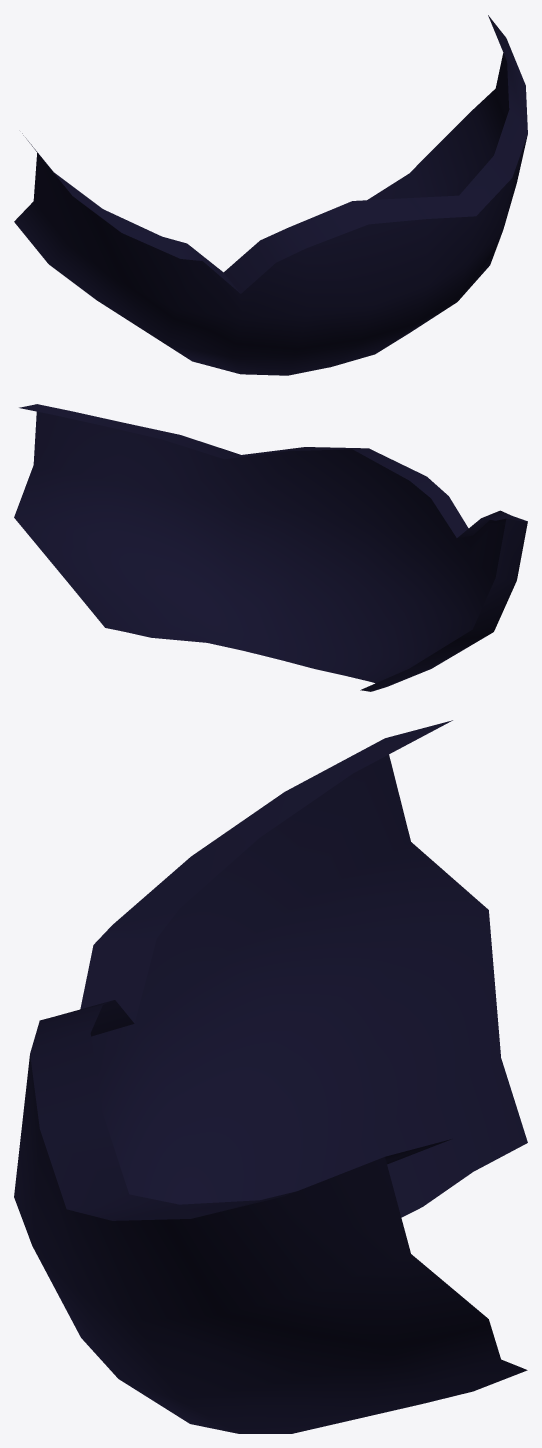
Rendered from character_mask.fbx.
The picture shows the model from 3 angles, top to bottom: view 1: azimuth 30°, elevation 25°; view 2: azimuth 150°, elevation 25°; view 3: azimuth 270°, elevation 25°; orthographic projection. The views are drawn at different scales.
Parts seen in each view (by area): view 1: character_mask; view 2: character_mask; view 3: character_mask.
Boxes of the visible parts, x1,y1,x2,y2 form: character_mask: (14,15,527,375); character_mask: (14,404,527,691); character_mask: (14,720,527,1433).
Size of the model in its own units: 89.82 by 45.56 by 46.62.
